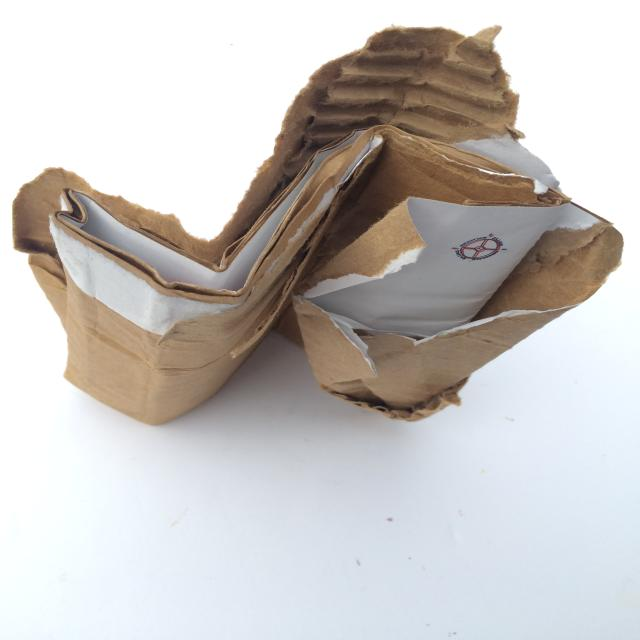cardboard: (9, 23, 624, 426)
